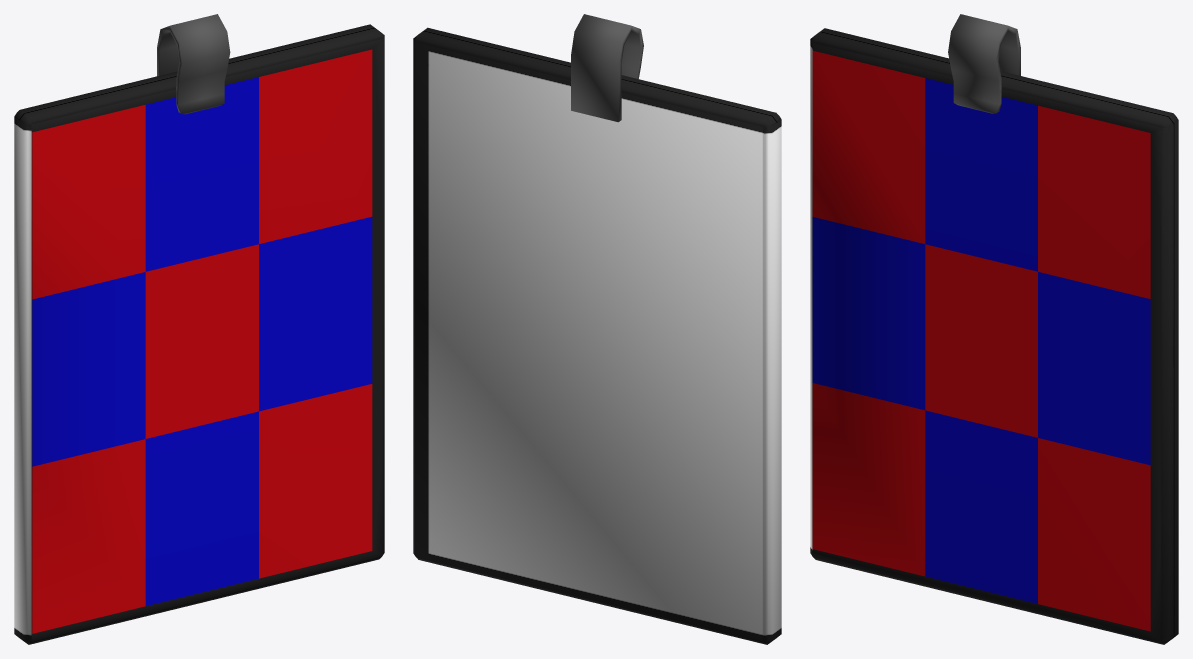
Rendered from dvd.fbx.
3 views of the same model, side by side, from view 1: azimuth 30°, elevation 25°; view 2: azimuth 150°, elevation 25°; view 3: azimuth 330°, elevation 25° (orthographic).
Visible parts, largest first — view 1: Cube.004; view 2: Cube.004; view 3: Cube.004.
Boxes of the visible parts, x1=… form: Cube.004: x1=14, y1=14, x2=384, y2=644; Cube.004: x1=413, y1=14, x2=781, y2=644; Cube.004: x1=810, y1=14, x2=1178, y2=644.
Size of the model in its own units: 136 by 210 by 16.69.
